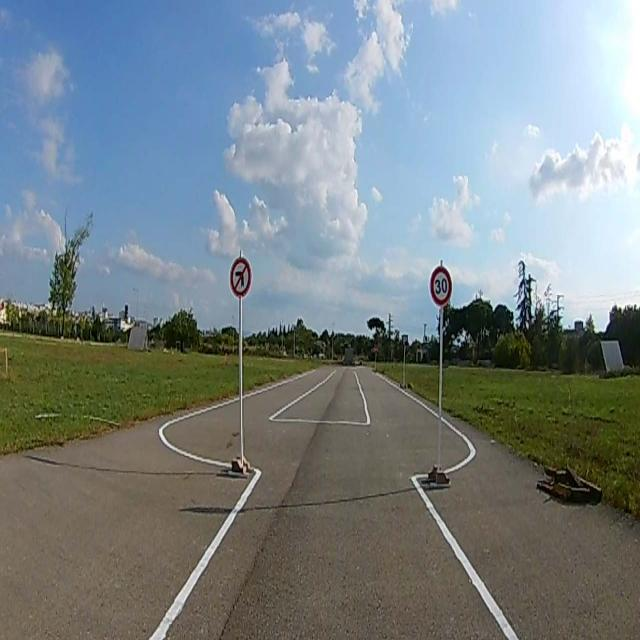30: (430, 267, 452, 305)
soladonulmez: (230, 258, 252, 298)
